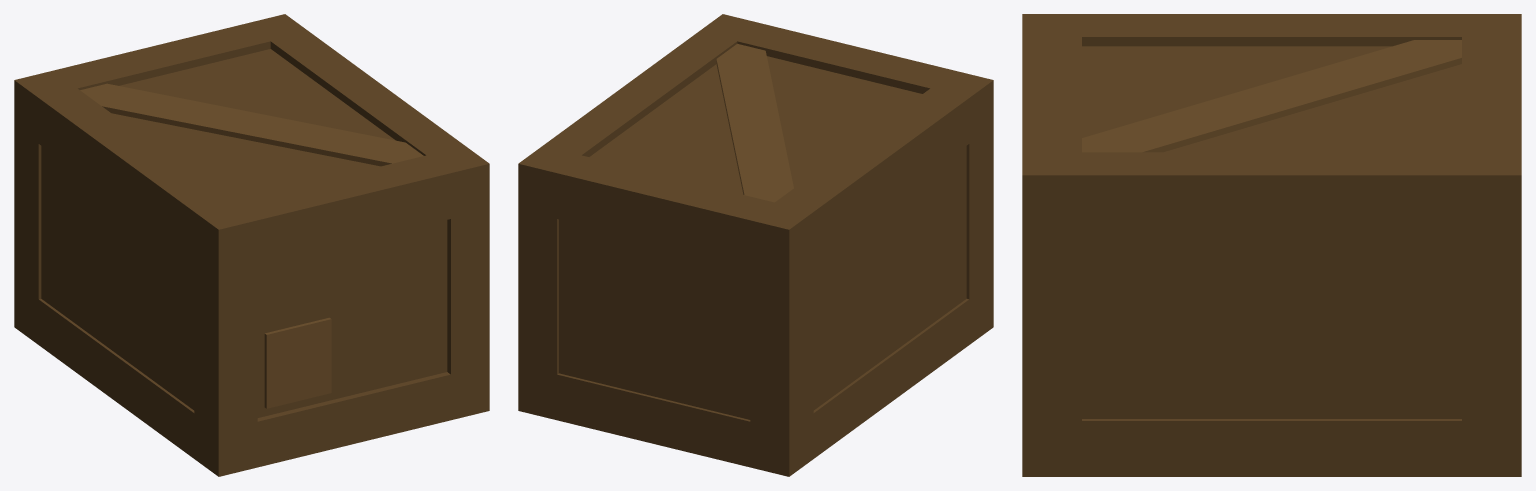
File: WoodCrate_Regular.fbx
The picture shows the model from 3 angles, left to right: view 1: azimuth 30°, elevation 25°; view 2: azimuth 150°, elevation 25°; view 3: azimuth 270°, elevation 25°; orthographic projection. The views are drawn at different scales.
Parts seen in each view (by area): view 1: WoodCrate_Regular; view 2: WoodCrate_Regular; view 3: WoodCrate_Regular.
Part boxes in pixels (x1,y1,x2,y2): WoodCrate_Regular: (14, 14, 489, 476); WoodCrate_Regular: (518, 14, 993, 476); WoodCrate_Regular: (1022, 14, 1521, 476).
Bounding box in the file's own units: 94.15 × 82.07 × 123.
